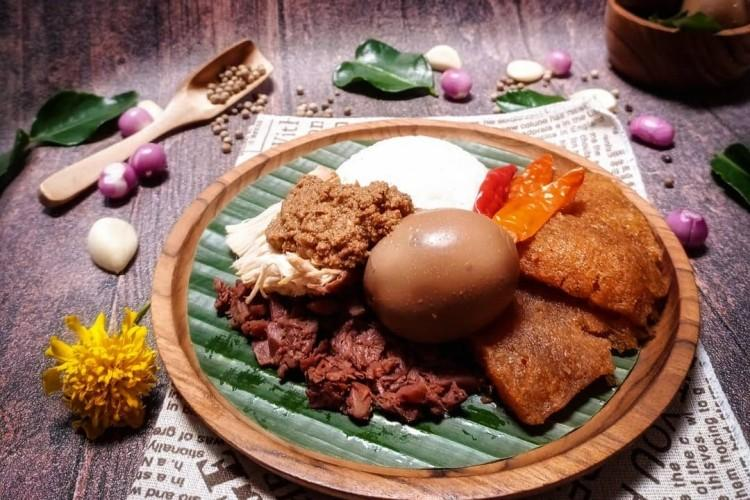gudeg: (213, 137, 671, 434)
